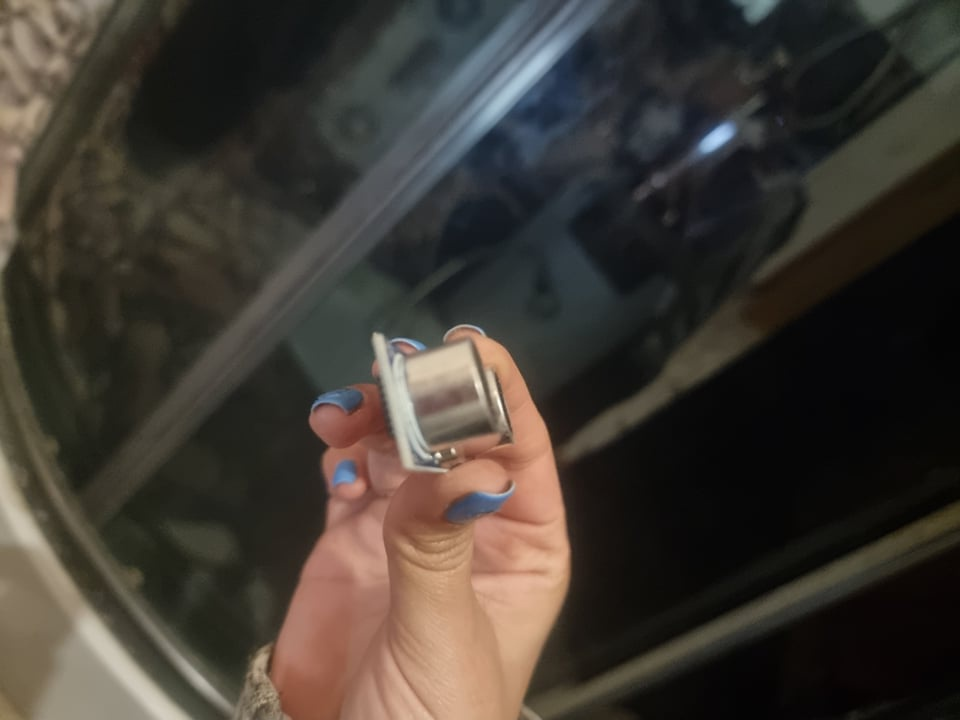SENSOR: (369, 331, 516, 474)
